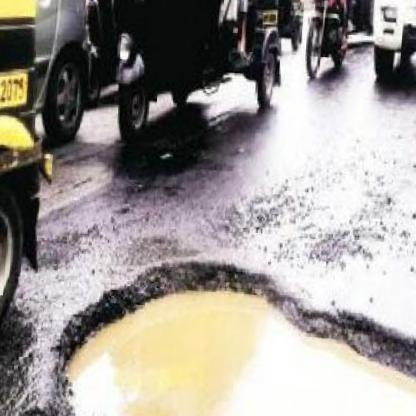pothole: (38, 245, 416, 416)
